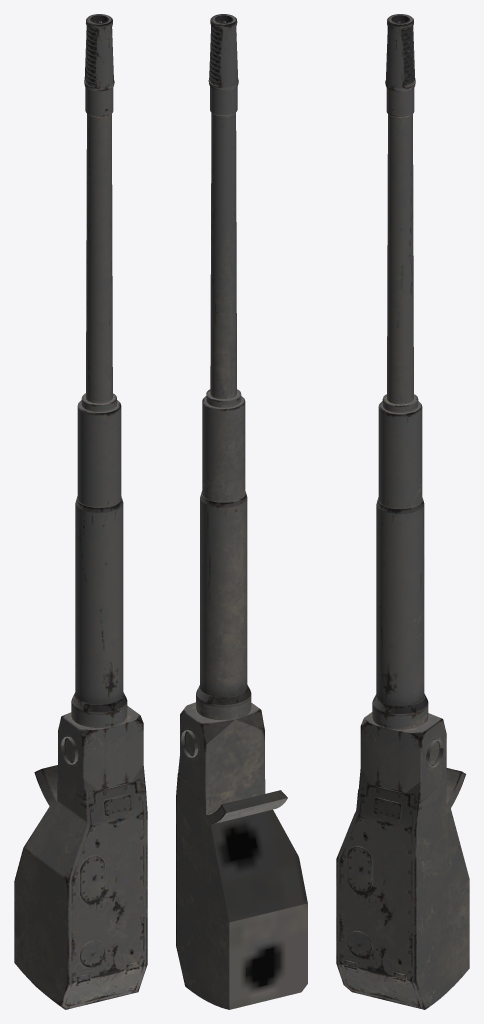
The model's file is Gun_02.glb.
The picture shows the model from 3 angles, left to right: view 1: azimuth 30°, elevation 25°; view 2: azimuth 210°, elevation 25°; view 3: azimuth 330°, elevation 25°; orthographic projection.
Parts seen in each view (by area): view 1: set_0_group_0; view 2: set_0_group_0; view 3: set_0_group_0.
Boxes of the visible parts, box(x1,y1,x2,y2) form: set_0_group_0: box(14, 14, 147, 1009); set_0_group_0: box(176, 14, 307, 1009); set_0_group_0: box(336, 14, 469, 1009).
Bounding box in the file's own units: 0.6459 × 7.2 × 0.7357.
Materials: 1 (1 with a texture image).
